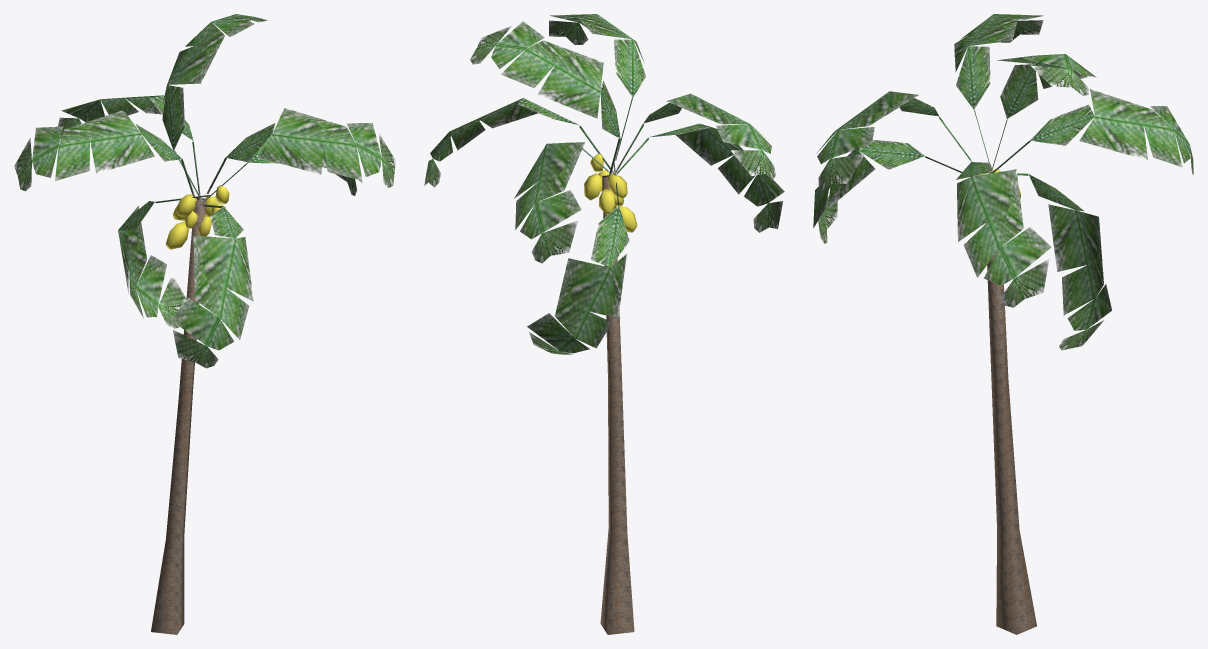
The model's file is LandFX_TP-CocosNuc-01.dae.
3 views of the same model, side by side, from view 1: azimuth 30°, elevation 25°; view 2: azimuth 150°, elevation 25°; view 3: azimuth 270°, elevation 25° (orthographic). The views are drawn at different scales.
Parts seen in each view (by area): view 1: Leaf-Palm-ShortWithTexture12 (×4), Leaf-Palm-ShortWithTexture (×3), Trunk-Palm-Straight-02_3_1; view 2: Leaf-Palm-ShortWithTexture12 (×4), Leaf-Palm-ShortWithTexture (×3), Trunk-Palm-Straight-02_3_1; view 3: Leaf-Palm-ShortWithTexture (×3), Leaf-Palm-ShortWithTexture12 (×4), Trunk-Palm-Straight-02_3_1.
Boxes of the visible parts, x1=… form: Leaf-Palm-ShortWithTexture12 (×4): x1=14, y1=14, x2=267, y2=368; Leaf-Palm-ShortWithTexture (×3): x1=58, y1=95, x2=395, y2=205; Trunk-Palm-Straight-02_3_1: x1=151, y1=198, x2=206, y2=634; Leaf-Palm-ShortWithTexture12 (×4): x1=470, y1=21, x2=784, y2=354; Leaf-Palm-ShortWithTexture (×3): x1=424, y1=14, x2=645, y2=263; Trunk-Palm-Straight-02_3_1: x1=600, y1=175, x2=634, y2=634; Leaf-Palm-ShortWithTexture (×3): x1=816, y1=89, x2=1193, y2=307; Leaf-Palm-ShortWithTexture12 (×4): x1=813, y1=14, x2=1111, y2=350; Trunk-Palm-Straight-02_3_1: x1=985, y1=221, x2=1036, y2=634.
Size of the model in its own units: 176 by 164 by 292.
Materials: 4 (3 with a texture image).
